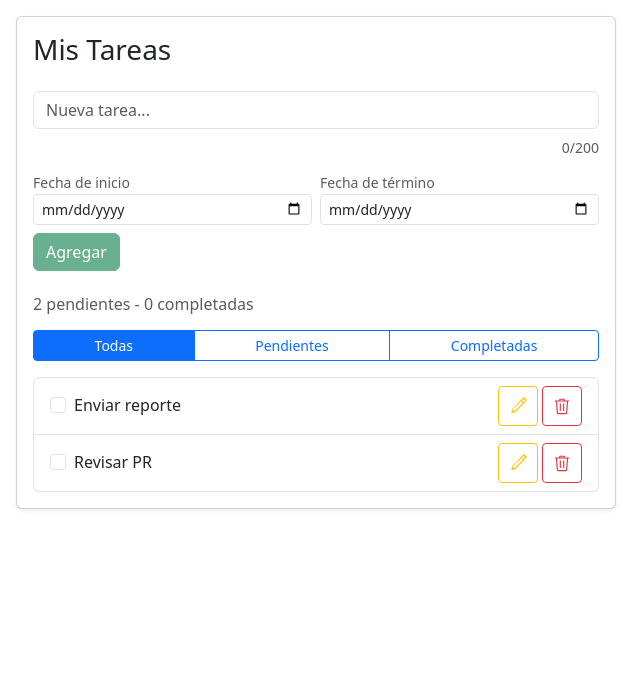
Test: shows celebratory row feedback and toast when completing a task
Click the checkbox labelled "Enviar reporte" at coordinates (58, 405), box [50,397,66,413]
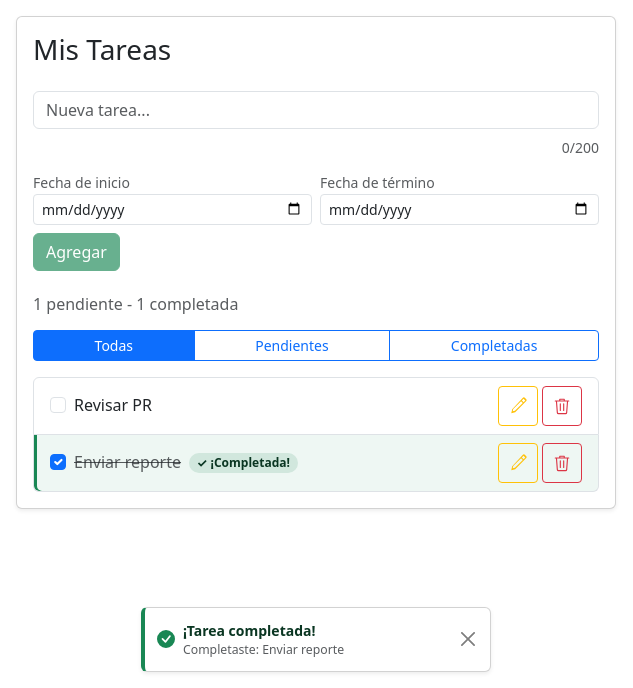
Result: the text "¡Completada!" is shown at [210,454,290,471]
Result: the message "Tarea completada" shows "¡Tarea completada!" at [183,621,316,640]
Result: the message "Tarea completada" shows "Completaste: Enviar reporte" at [183,641,344,658]
